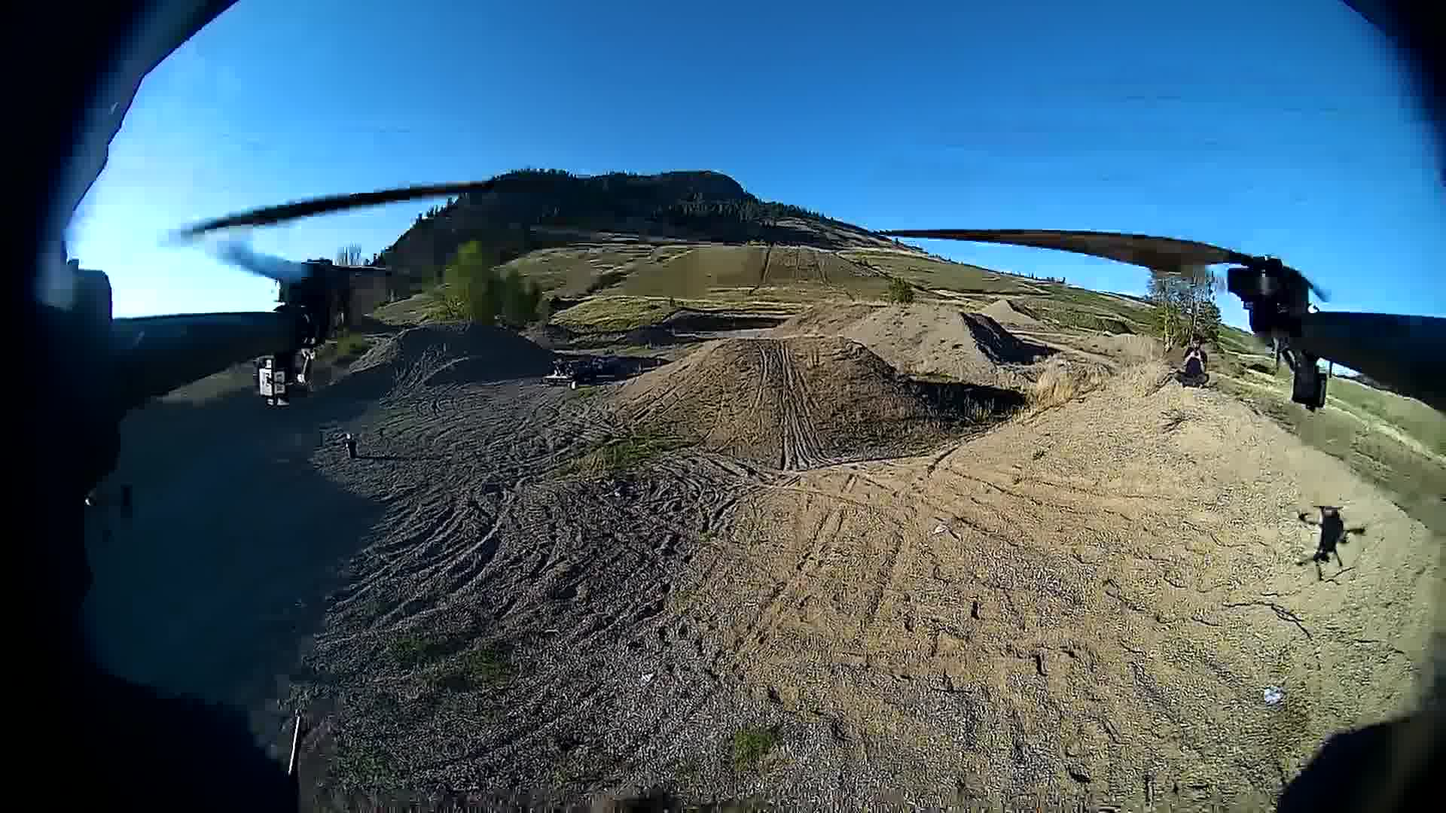Target: (1263, 687, 1280, 704)
